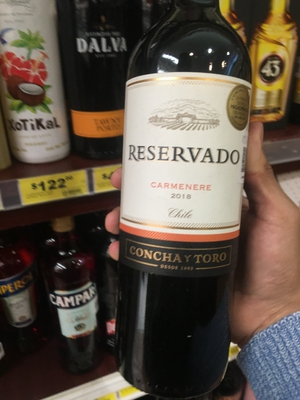reservado carmenere: (114, 2, 259, 396)
